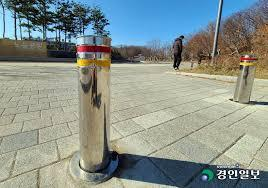Animal: (77, 36, 120, 162), (241, 47, 255, 103)
